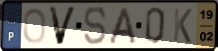0: (143, 6, 167, 47)
A: (107, 6, 138, 46)
K: (172, 7, 194, 44)
O: (22, 7, 48, 45)
S: (83, 5, 109, 47)
V: (47, 5, 79, 46)
